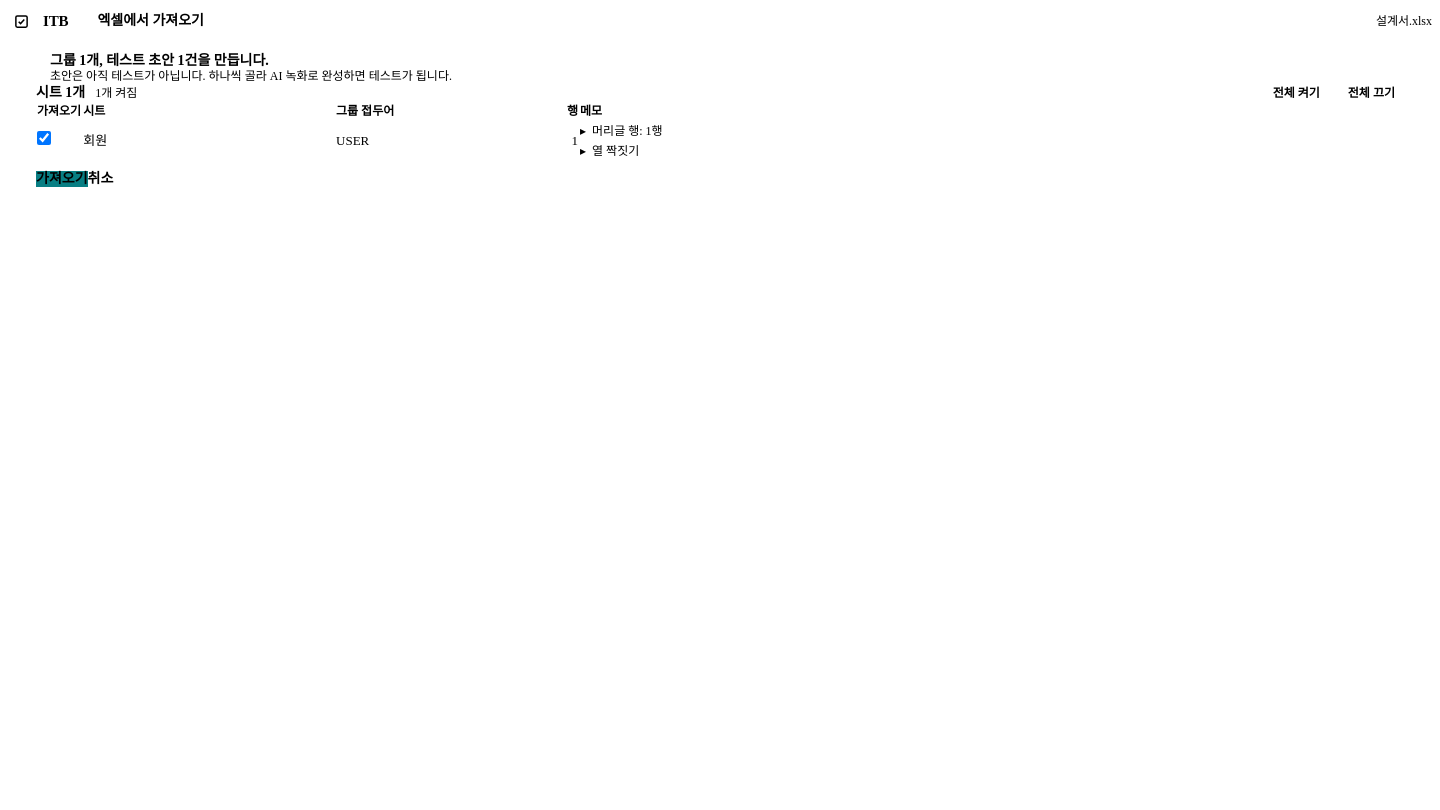
Test case: 확정이 막힐 때 › 되돌린 실패와 되돌리지 못한 실패를 다르게 말한다
Click the button "가져오기" at (62, 179), box [36,171,88,187]
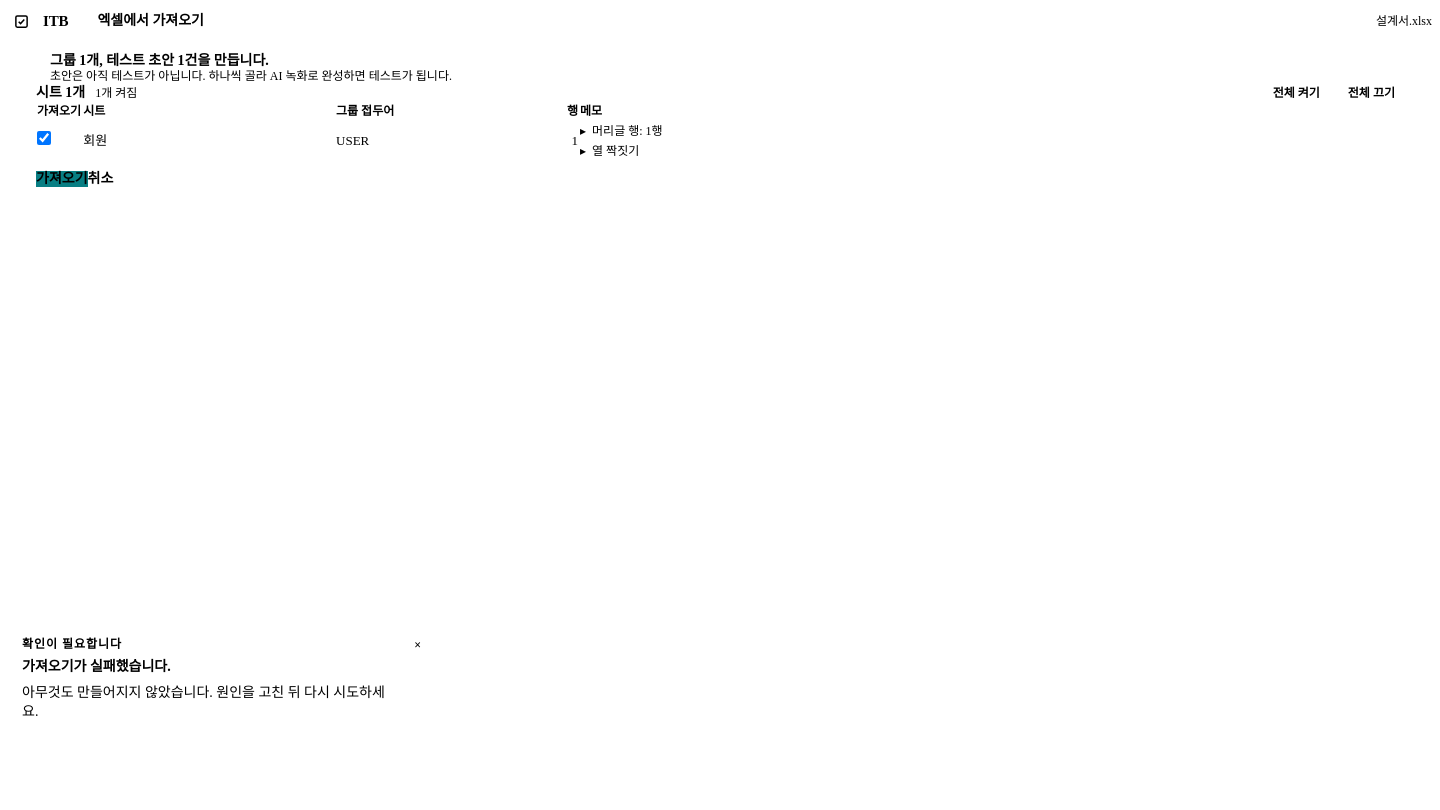
Check: the text "아무것도 만들어지지 않았습니다. 원인을 고친 뒤 다시 시도하세요." is shown, box [22,683,393,722]
